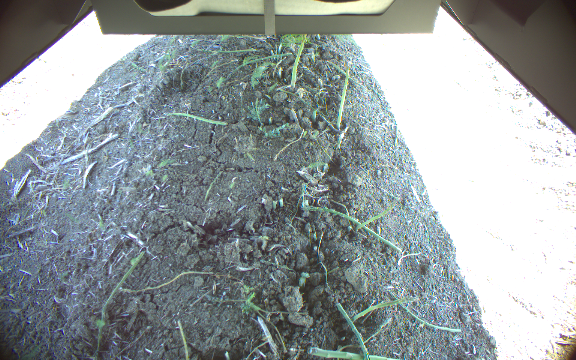aspa: (348, 296, 412, 327), (353, 200, 395, 234), (334, 60, 353, 132), (288, 37, 308, 90)
